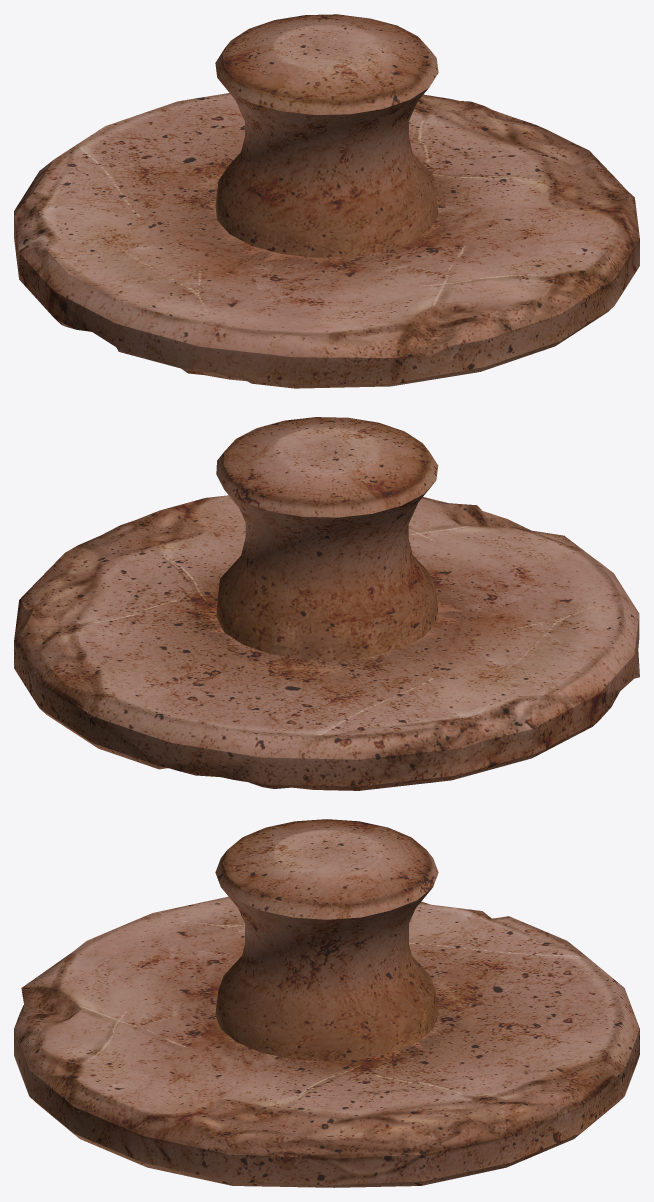
File: MD_osigawara (1).fbx
3 renders of one model, top to bottom at view 1: azimuth 30°, elevation 25°; view 2: azimuth 150°, elevation 25°; view 3: azimuth 270°, elevation 25°, orthographic.
Parts seen in each view (by area): view 1: pCylinder7; view 2: pCylinder7; view 3: pCylinder7.
Part boxes in pixels (bbox=[...]): pCylinder7: bbox=[14, 14, 639, 388]; pCylinder7: bbox=[14, 417, 639, 790]; pCylinder7: bbox=[14, 819, 639, 1187].
Size of the model in its own units: 13.85 by 5.22 by 14.
Materials: 1 (1 with a texture image).
